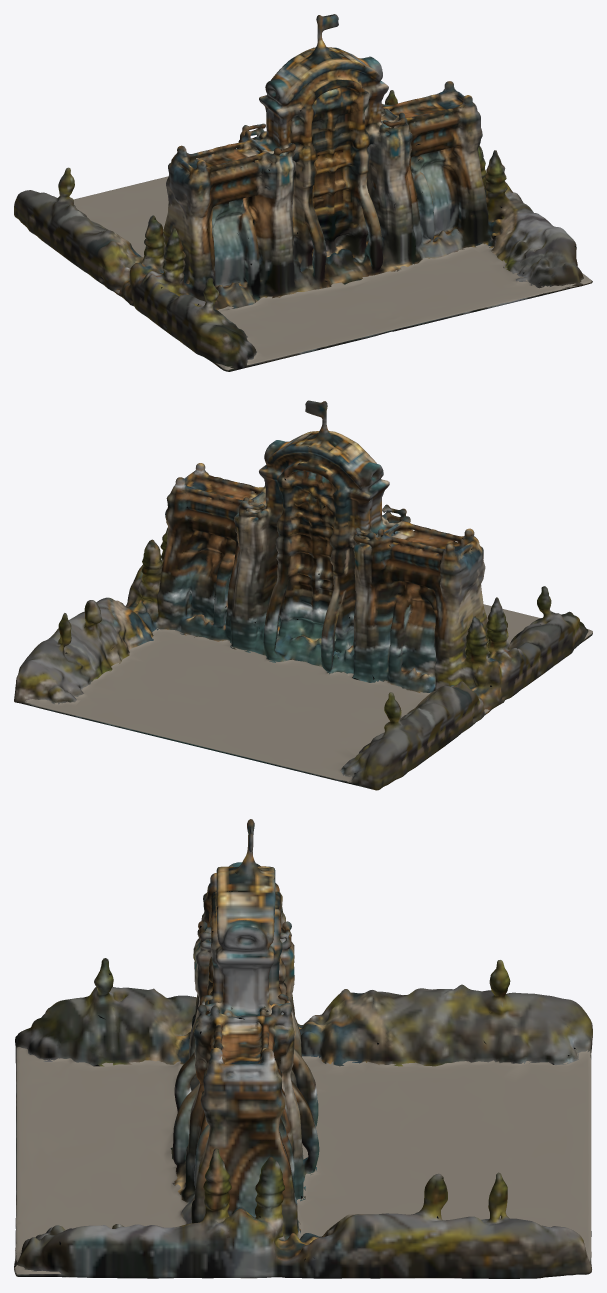
File: review-building-beaver-c15b2bf553f3.glb
The picture shows the model from 3 angles, top to bottom: view 1: azimuth 30°, elevation 25°; view 2: azimuth 150°, elevation 25°; view 3: azimuth 270°, elevation 25°; orthographic projection. The views are drawn at different scales.
Parts seen in each view (by area): view 1: beaver | building material review; view 2: beaver | building material review; view 3: beaver | building material review.
Boxes of the visible parts, x1=… form: beaver | building material review: x1=14, y1=14, x2=592, y2=371; beaver | building material review: x1=14, y1=400, x2=592, y2=790; beaver | building material review: x1=14, y1=819, x2=592, y2=1278.
Bounding box in the file's own units: 21.9 × 14 × 21.82.
2 materials, 1 textured.
